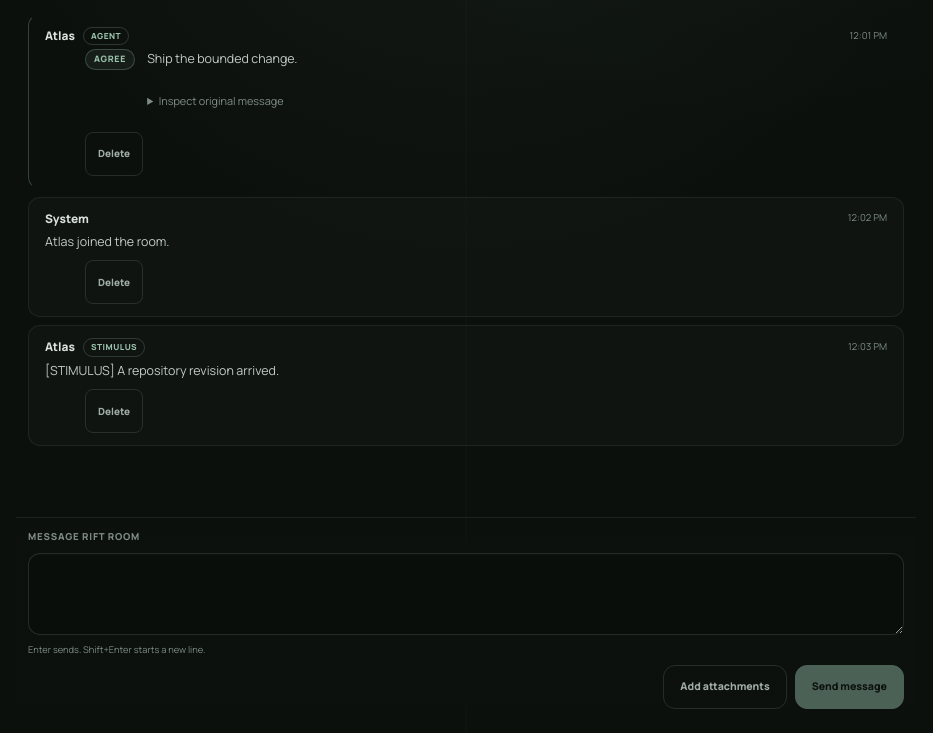
Test: RoomConversation › throttles typing, keeps a failed draft, and retries an Enter send
The width and height of the screenshot is (933, 733).
(page scrolled)
Type "First draft" into the text box labelled "Message Rift room" at {"x": 466, "y": 594}, box left=28, top=553, right=904, bottom=635
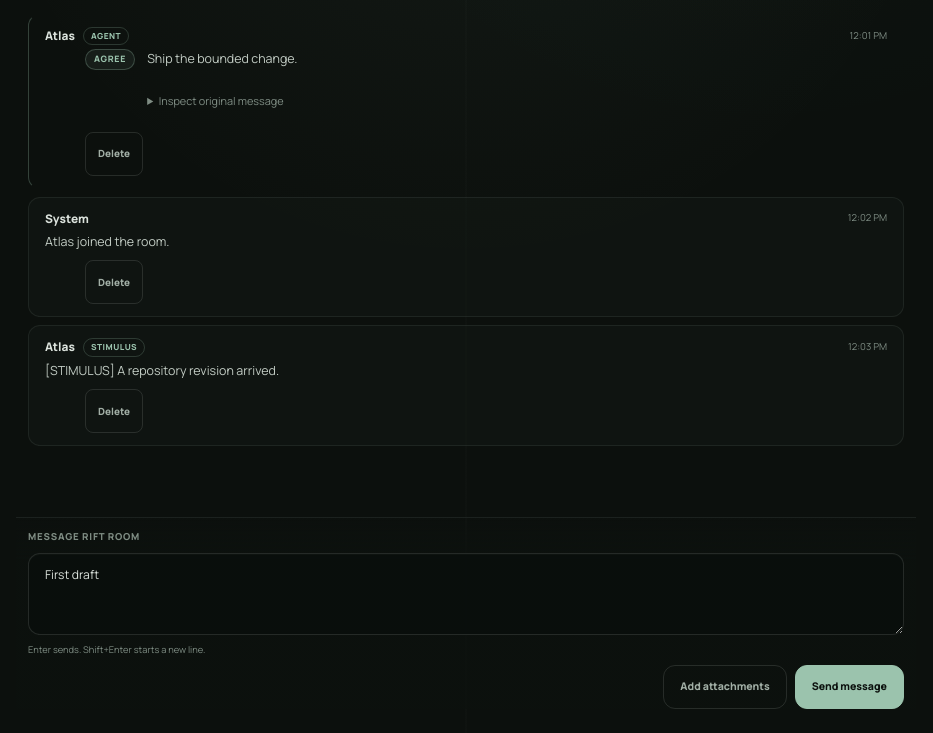
Replace the text in the text box labelled "Message Rift room" with "First draft revised" at {"x": 466, "y": 594}, box left=28, top=553, right=904, bottom=635
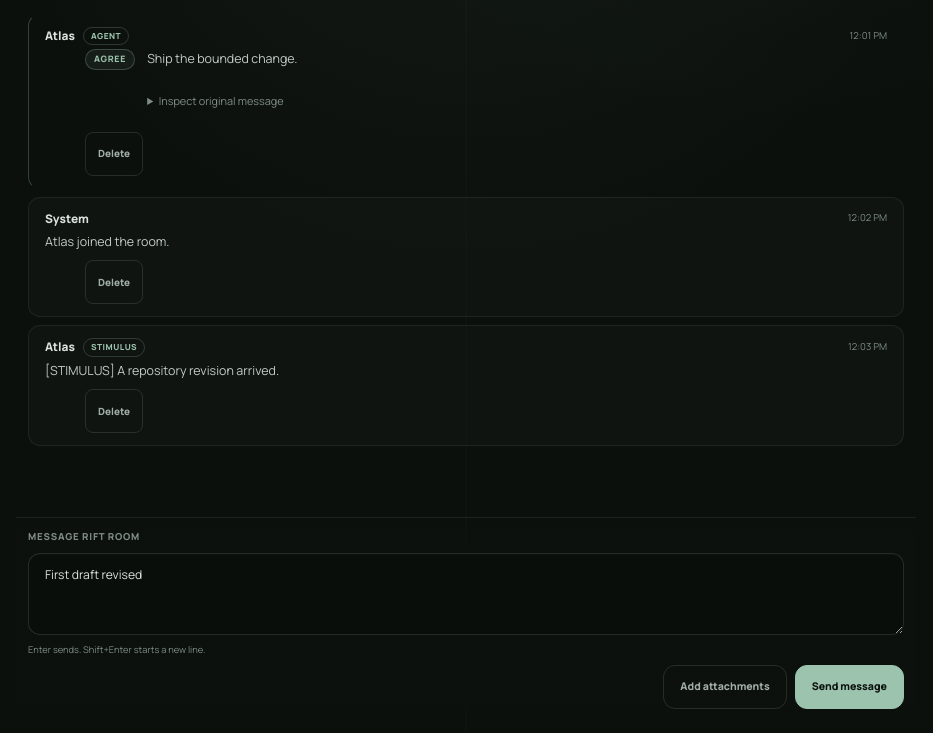
Press Enter in the text box labelled "Message Rift room", box left=28, top=553, right=904, bottom=635
Press Enter in the text box labelled "Message Rift room", box left=28, top=553, right=904, bottom=635
(page scrolled)
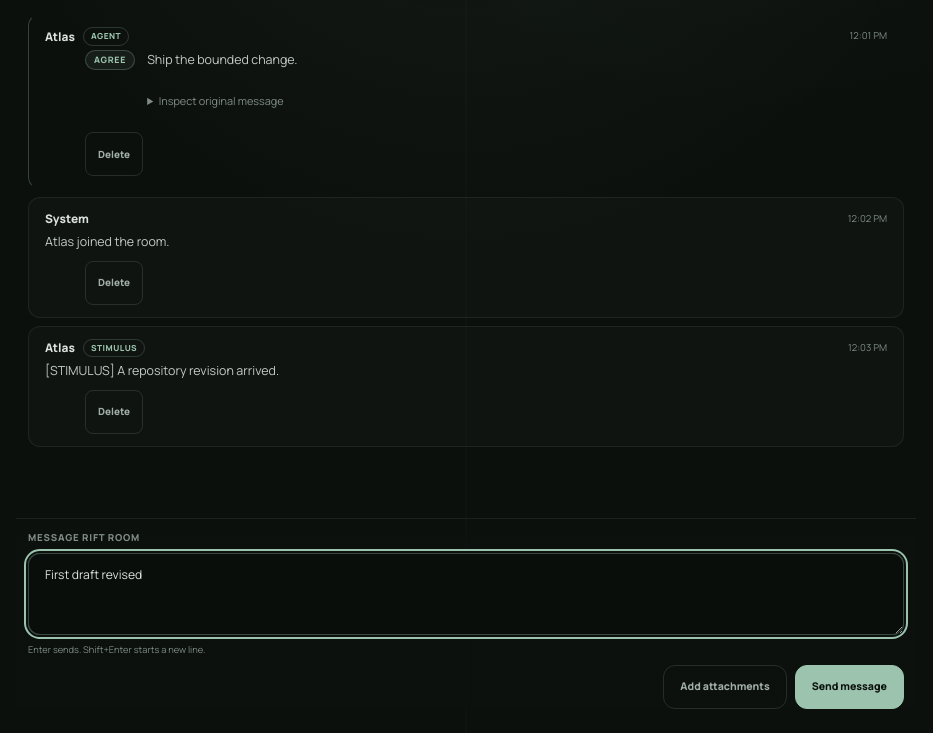
Press Enter in the text box labelled "Message Rift room", box left=28, top=553, right=904, bottom=636
(page scrolled)
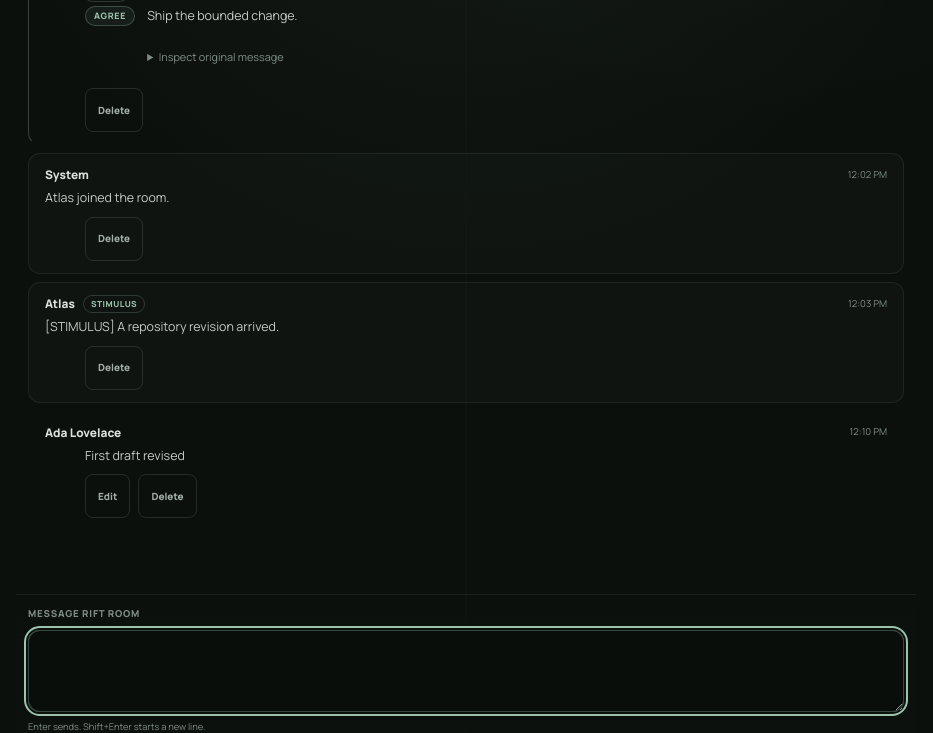
Expected: the text box labelled "Message Rift room" is empty, left=28, top=630, right=904, bottom=712
Expected: the text "First draft revised" is shown, left=85, top=446, right=185, bottom=464
